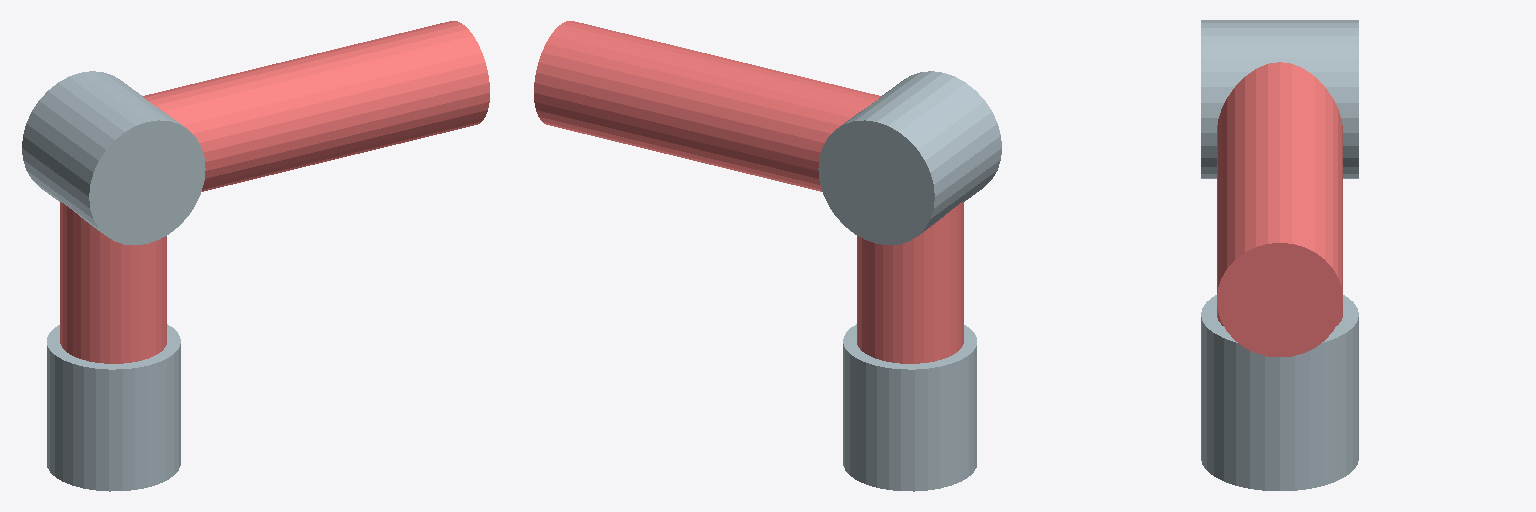
URDF robot description (robot):
<robot name='robot'>
	<material name='blue'>
		<color rgba='0 0 0.8 1'/>
	</material>
	<material name='red'>
		<color rgba='0.8 0 0 1'/>
	</material>
	<link name='a0'>
		<visual>
			<origin rpy='-0.0 0.0 0.0' xyz='0.0 0.0 0.0'/>
			<geometry>
				<cylinder length='0.1' radius='0.05'/>
			</geometry>
			<material name='blue'><color rgba='0.73 0.79 0.82 1'/></material>
		</visual>
	</link>
	<link name='l0'>
		<visual>
			<origin rpy='-0.0 0.0 0.0' xyz='0.0 0.0 0.1'/>
			<geometry>
				<cylinder length='0.2' radius='0.04'/>
			</geometry>
			<material name='grey'><color rgba='0.99 0.54 0.54 1'/></material>
		</visual>
	</link>
	<joint name='move_l0_from_a0' type='continuous'>
		<parent link='a0'/>
		<child link='l0'/>
		<axis xyz='0.0 0.0 1.0'/>
		<origin rpy='0 0 0' xyz='0.0 0.0 0.0'/>
	</joint>
	<link name='a1'>
		<visual>
			<origin rpy='1.5707963267948966 0.0 0.0' xyz='0.0 0.0 0.2'/>
			<geometry>
				<cylinder length='0.1' radius='0.05'/>
			</geometry>
			<material name='blue'><color rgba='0.73 0.79 0.82 1'/></material>
		</visual>
	</link>
	<joint name='fix_a1_to_l0' type='fixed'>
		<parent link='l0'/>
		<child link='a1'/>
		<origin rpy='0 0 0' xyz='0 0 0'/>
	</joint>
	<link name='l1'>
		<visual>
			<origin rpy='-0.0 1.5707963267948966 0.0' xyz='0.15 0.0 0.0'/>
			<geometry>
				<cylinder length='0.3' radius='0.04'/>
			</geometry>
			<material name='grey'><color rgba='0.99 0.54 0.54 1'/></material>
		</visual>
	</link>
	<joint name='move_l1_from_a1' type='continuous'>
		<parent link='a1'/>
		<child link='l1'/>
		<axis xyz='0.0 -1.0 0.0'/>
		<origin rpy='0 0 0' xyz='0.0 0.0 0.2'/>
	</joint>
</robot>

--- Facts derived from the render (not from the file) ---
3 views of the same robot in one strip: view 1: azimuth 30°, elevation 25°; view 2: azimuth 150°, elevation 25°; view 3: azimuth 270°, elevation 25° (orthographic).
Model robot with 4 links and 3 joints (2 continuous, 1 fixed), rooted at a0, posed all joints at 0.
Links seen in each view (by area): view 1: l1, a1, a0, l0; view 2: l1, a1, a0, l0; view 3: l1, a0, a1.
Link boxes in pixels (<box>): l1: <box>143,21,489,191</box>; a1: <box>22,71,205,244</box>; a0: <box>47,324,180,491</box>; l0: <box>60,202,166,363</box>; l1: <box>534,21,880,191</box>; a1: <box>818,71,1001,244</box>; a0: <box>843,324,976,491</box>; l0: <box>857,202,963,363</box>; l1: <box>1217,62,1342,356</box>; a0: <box>1201,295,1358,490</box>; a1: <box>1201,20,1358,178</box>.
Bounding box of the posed robot: 0.35 × 0.1 × 0.3 m (x, y, z).
Geometry: primitives only (box / cylinder / sphere), no mesh files.